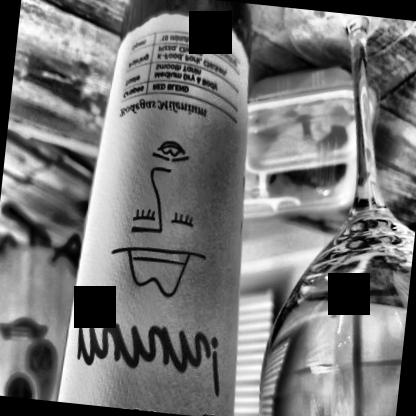umm: (56, 0, 276, 415)
